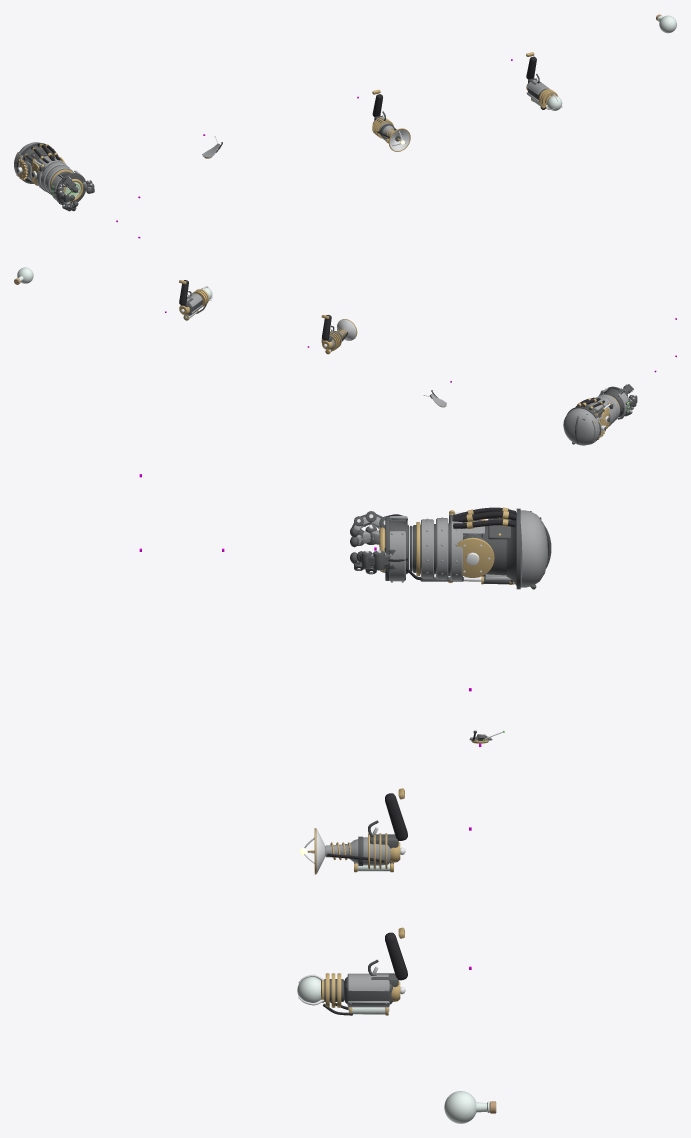
The model's file is RiftGear.fbx.
The picture shows the model from 3 angles, top to bottom: view 1: azimuth 30°, elevation 25°; view 2: azimuth 150°, elevation 25°; view 3: azimuth 270°, elevation 25°; orthographic projection. The views are drawn at different scales.
Parts seen in each view (by area): view 1: Arm_SteelDark, Arm_Steel, Arm_Brass, RayGun_Brass; view 2: Arm_Steel, Arm_SteelDark, RayGun_Brass, Arm_Brass; view 3: Arm_Steel, Arm_SteelDark, Arm_Brass, Arm_Rubber, PortalGun_SteelDark, RayGun_Brass, PortalGun_Steel, Flask_Glass.
Part boxes in pixels (left/top/right/bottom): Arm_SteelDark: left=16, top=143, right=94, bottom=211; Arm_Steel: left=14, top=142, right=90, bottom=207; Arm_Brass: left=16, top=143, right=83, bottom=201; RayGun_Brass: left=372, top=89, right=410, bottom=151; Arm_Steel: left=563, top=388, right=632, bottom=445; Arm_SteelDark: left=567, top=384, right=637, bottom=444; RayGun_Brass: left=321, top=315, right=357, bottom=354; Arm_Brass: left=577, top=395, right=620, bottom=441; Arm_Steel: left=354, top=510, right=547, bottom=587; Arm_SteelDark: left=350, top=508, right=551, bottom=589; Arm_Brass: left=379, top=507, right=514, bottom=584; Arm_Rubber: left=386, top=507, right=516, bottom=579; PortalGun_SteelDark: left=324, top=959, right=398, bottom=1004; RayGun_Brass: left=307, top=788, right=404, bottom=874; PortalGun_Steel: left=347, top=973, right=389, bottom=1007; Flask_Glass: left=444, top=1091, right=489, bottom=1123.
Bounding box in the file's own units: 16.8 × 1.68 × 5.
